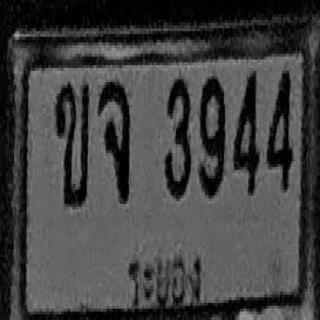A02: (55, 81, 89, 205)
A08: (98, 79, 130, 201)
N03: (164, 76, 191, 198)
N04: (233, 70, 259, 194), (267, 68, 292, 190)
N09: (199, 75, 225, 197)
P53: (122, 243, 206, 314)
